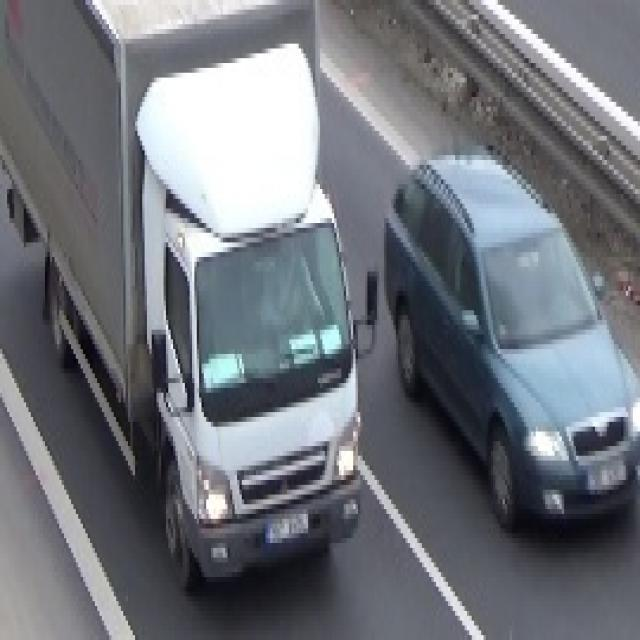truck: (2, 0, 384, 587)
